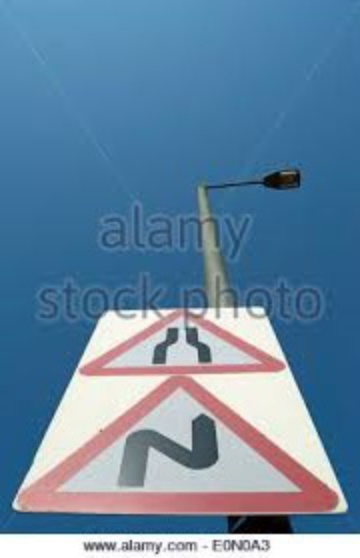Double_bend_right: (11, 374, 345, 516)
